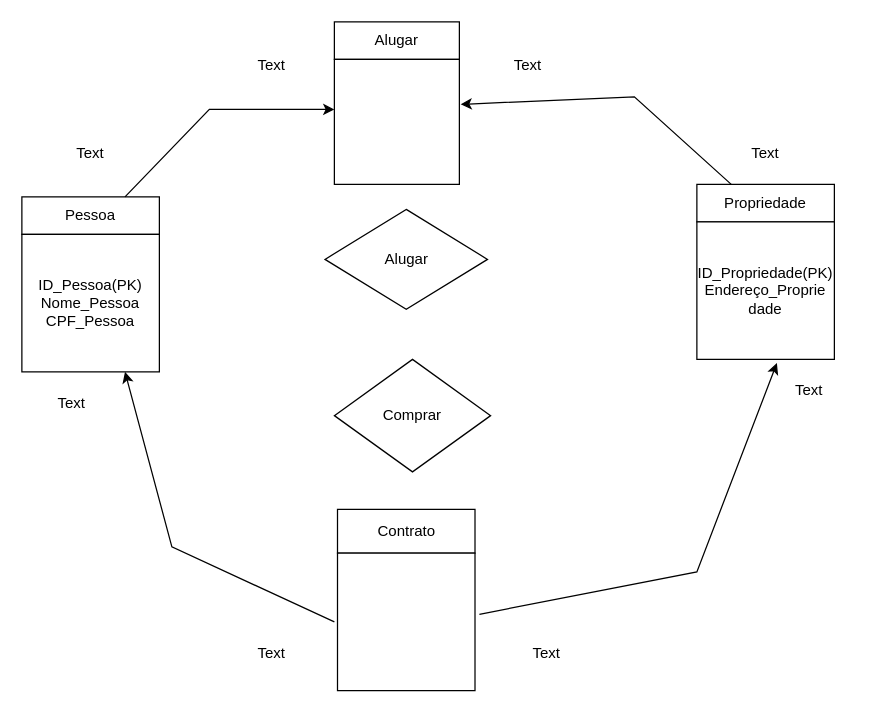
This 869x713 diagram has some shape labels left out. The shapes that lost their labels are listed below. From the top down, each one's box as (x1, y1, x2, y2) in pixels, then its label:
(333, 58, 459, 184): ID_Aluguel(PK) ID_Pessoa(FK) ID_Propriedade (FK)
(336, 552, 475, 691): ID_Contrato(PK) ID_Pessao(FK) ID_Propriedade (FK) Data_Contrato
